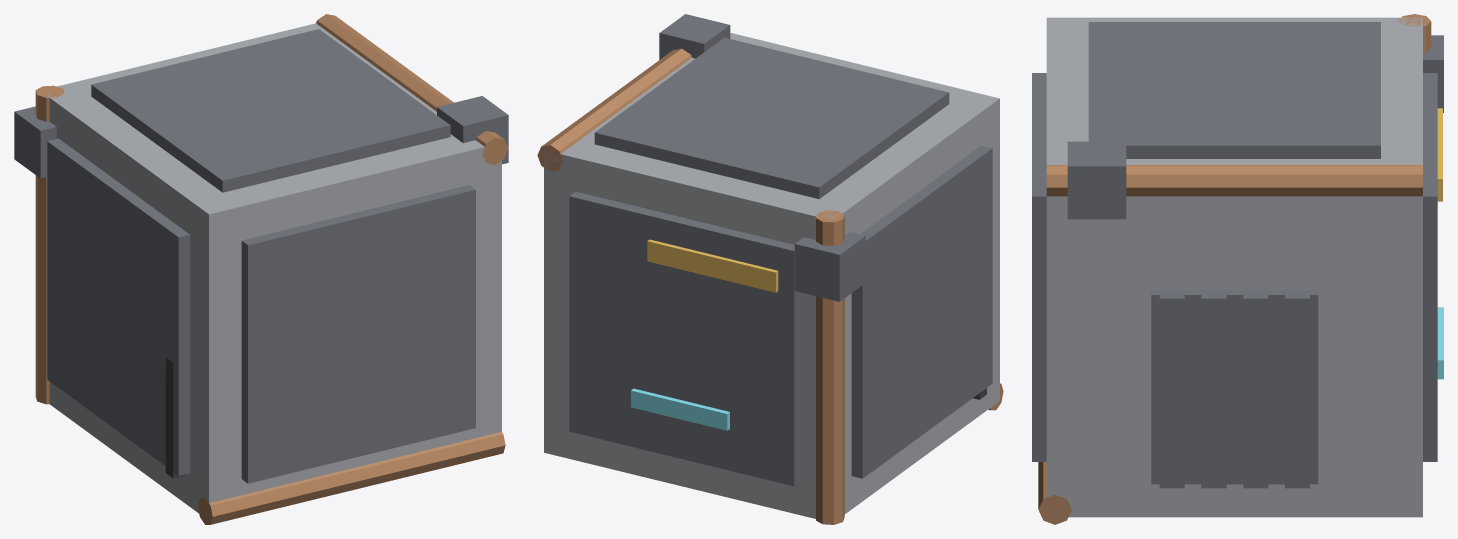
File: hull_conduit.glb
3 views of the same model, side by side, from view 1: azimuth 30°, elevation 25°; view 2: azimuth 150°, elevation 25°; view 3: azimuth 270°, elevation 25° (orthographic). The views are drawn at different scales.
Size of the model in its own units: 1 by 0.985 by 0.985.
